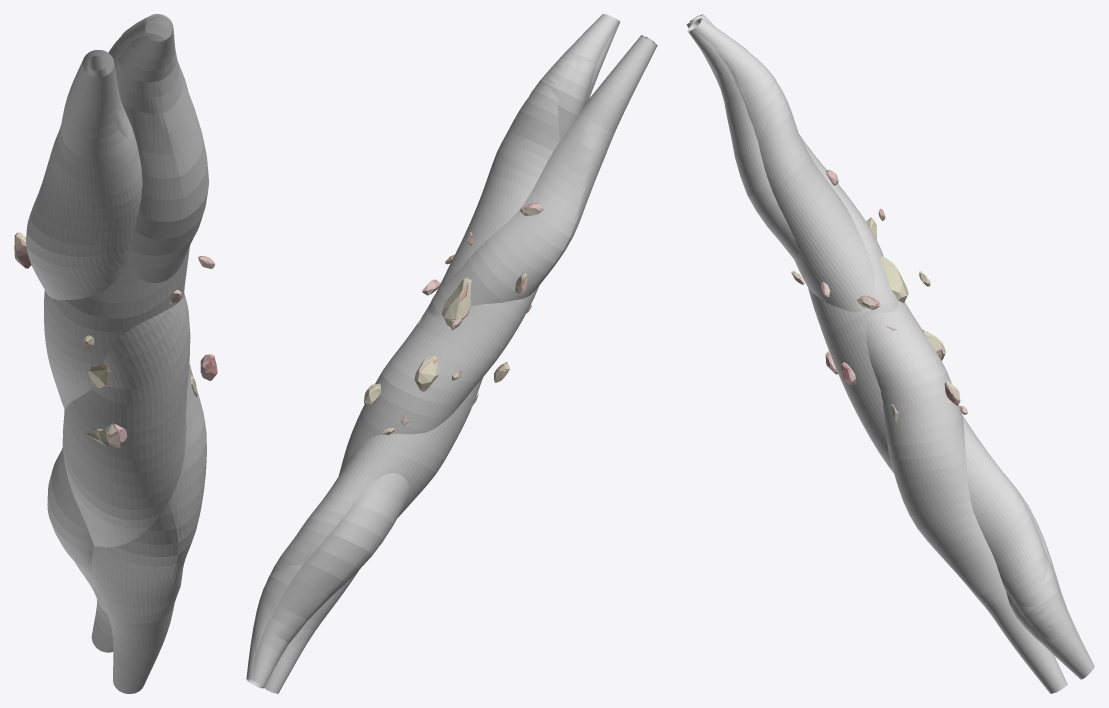
File: STA_22.fbx
The picture shows the model from 3 angles, left to right: view 1: azimuth 30°, elevation 25°; view 2: azimuth 150°, elevation 25°; view 3: azimuth 270°, elevation 25°; orthographic projection. The views are drawn at different scales.
Parts seen in each view (by area): view 1: STA_22; view 2: STA_22; view 3: STA_22.
Part boxes in pixels (box(x1,y1,x2,y2)): STA_22: box(14, 14, 217, 693); STA_22: box(246, 14, 657, 693); STA_22: box(686, 14, 1094, 693).
Size of the model in its own units: 49797 by 125095 by 77829.
